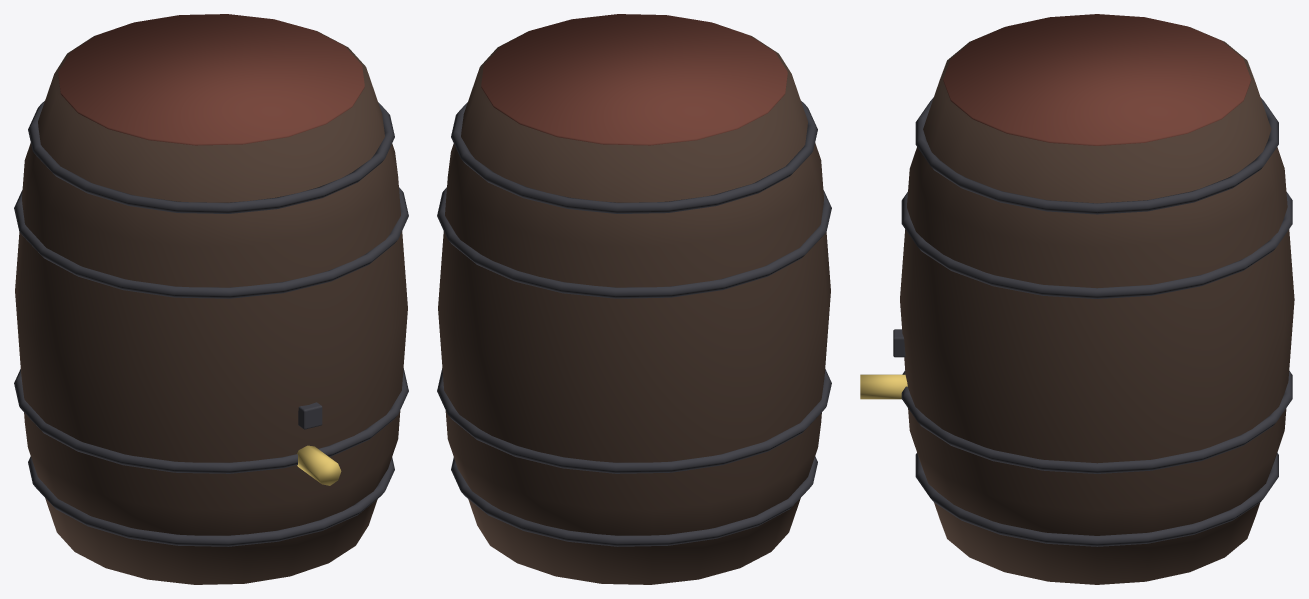
Rendered from barrel_big_cask.glb.
3 views of the same model, side by side, from view 1: azimuth 30°, elevation 25°; view 2: azimuth 150°, elevation 25°; view 3: azimuth 270°, elevation 25° (orthographic).
Visible parts, largest first — view 1: GD_barrel_big_cask__m0, GD_barrel_big_cask__m2, GD_barrel_big_cask__m1, GD_barrel_big_cask__m3; view 2: GD_barrel_big_cask__m0, GD_barrel_big_cask__m2, GD_barrel_big_cask__m1; view 3: GD_barrel_big_cask__m0, GD_barrel_big_cask__m2, GD_barrel_big_cask__m1, GD_barrel_big_cask__m3.
Boxes of the visible parts, box(x1,y1,x2,y2) form: GD_barrel_big_cask__m0: box(15, 24, 407, 584); GD_barrel_big_cask__m2: box(58, 14, 364, 145); GD_barrel_big_cask__m1: box(14, 101, 408, 546); GD_barrel_big_cask__m3: box(297, 445, 341, 485); GD_barrel_big_cask__m0: box(438, 24, 830, 584); GD_barrel_big_cask__m2: box(481, 14, 787, 145); GD_barrel_big_cask__m1: box(437, 101, 831, 546); GD_barrel_big_cask__m0: box(900, 27, 1294, 584); GD_barrel_big_cask__m2: box(943, 14, 1251, 145); GD_barrel_big_cask__m1: box(893, 97, 1292, 546); GD_barrel_big_cask__m3: box(860, 374, 907, 399).
Size of the model in its own units: 0.9005 by 1.11 by 0.99.
